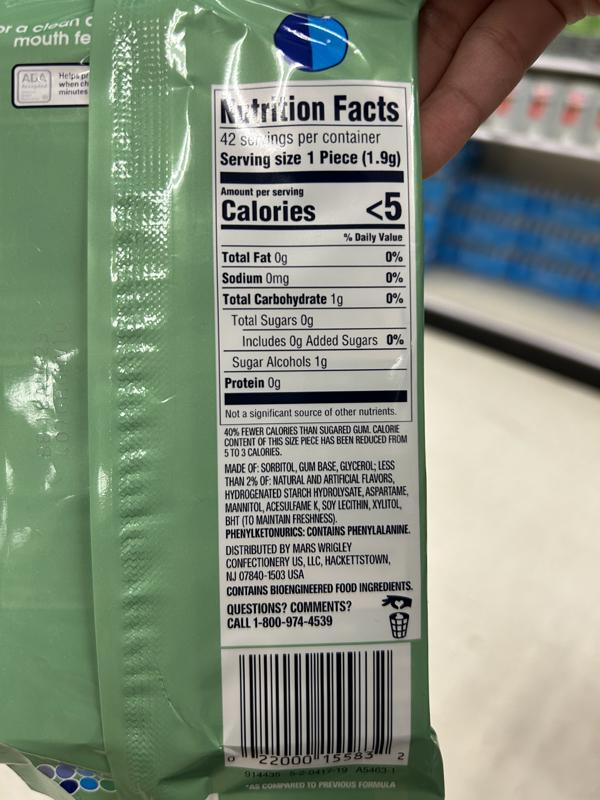ingredients: (223, 459, 411, 527)
